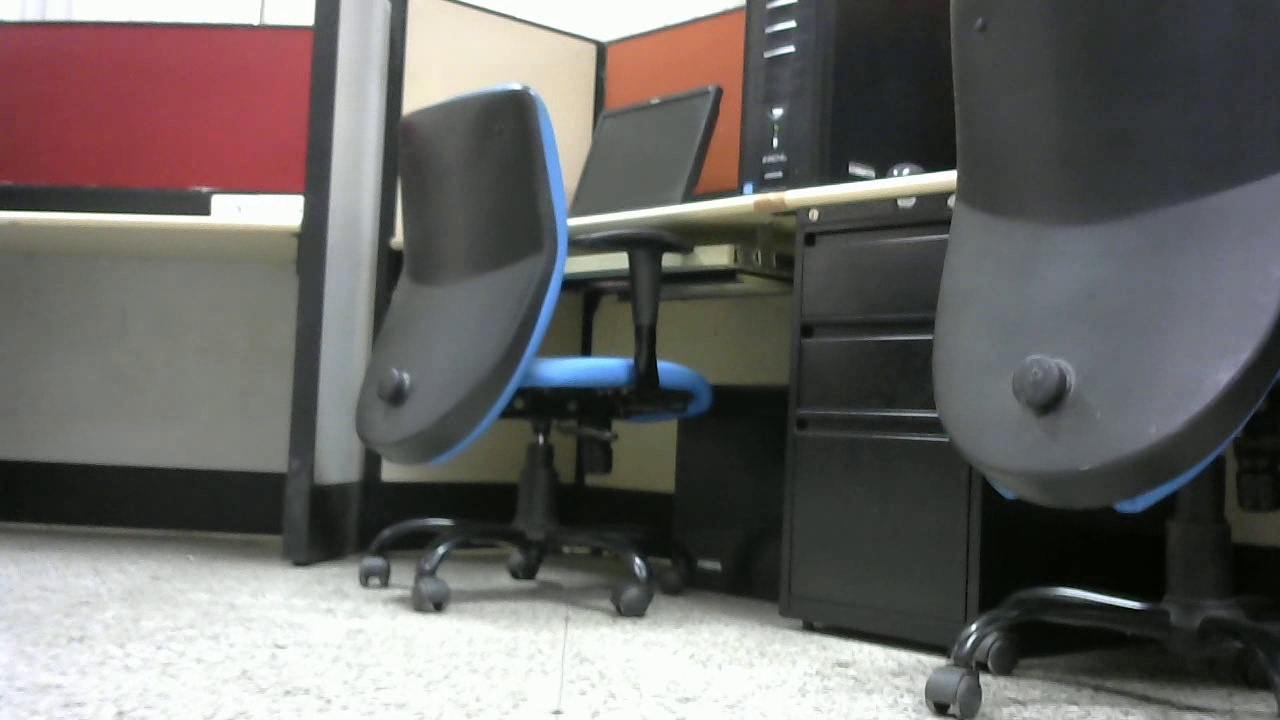chair: (344, 80, 721, 614)
